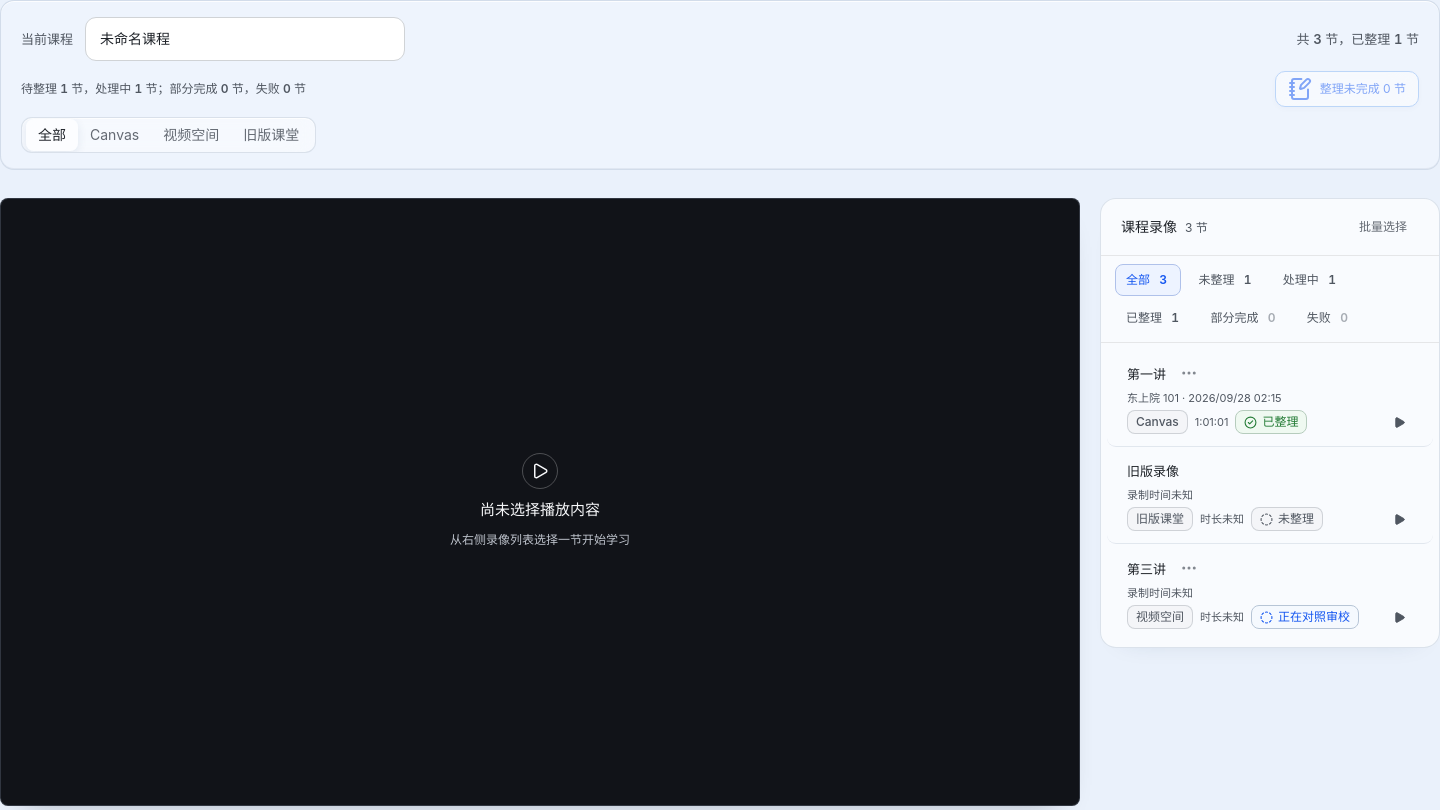
Scenario: VideosView › 状态计数和列表标题跟随当前视频来源
Press the mouse on the tab "视频空间" at (191,135), box [151,119,231,151]
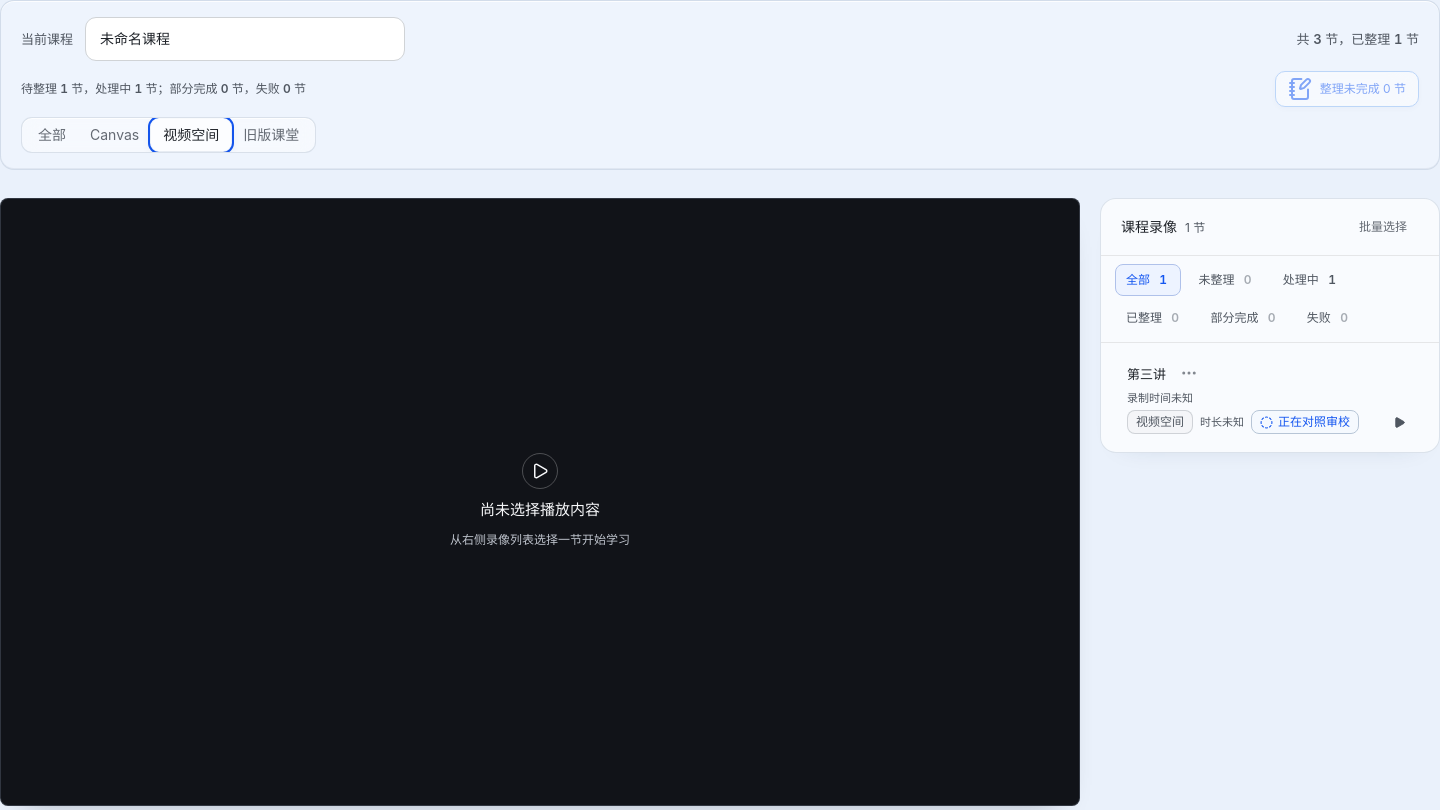
Expected: the text "1 节" is shown, [1185,216,1205,238]
Expected: the button "全部 1" is shown, [1115,264,1181,296]
Expected: the button "未整理 0" is shown, [1187,264,1266,296]
Press the mouse on the tab "Canvas" at (115,135), box [78,119,151,151]
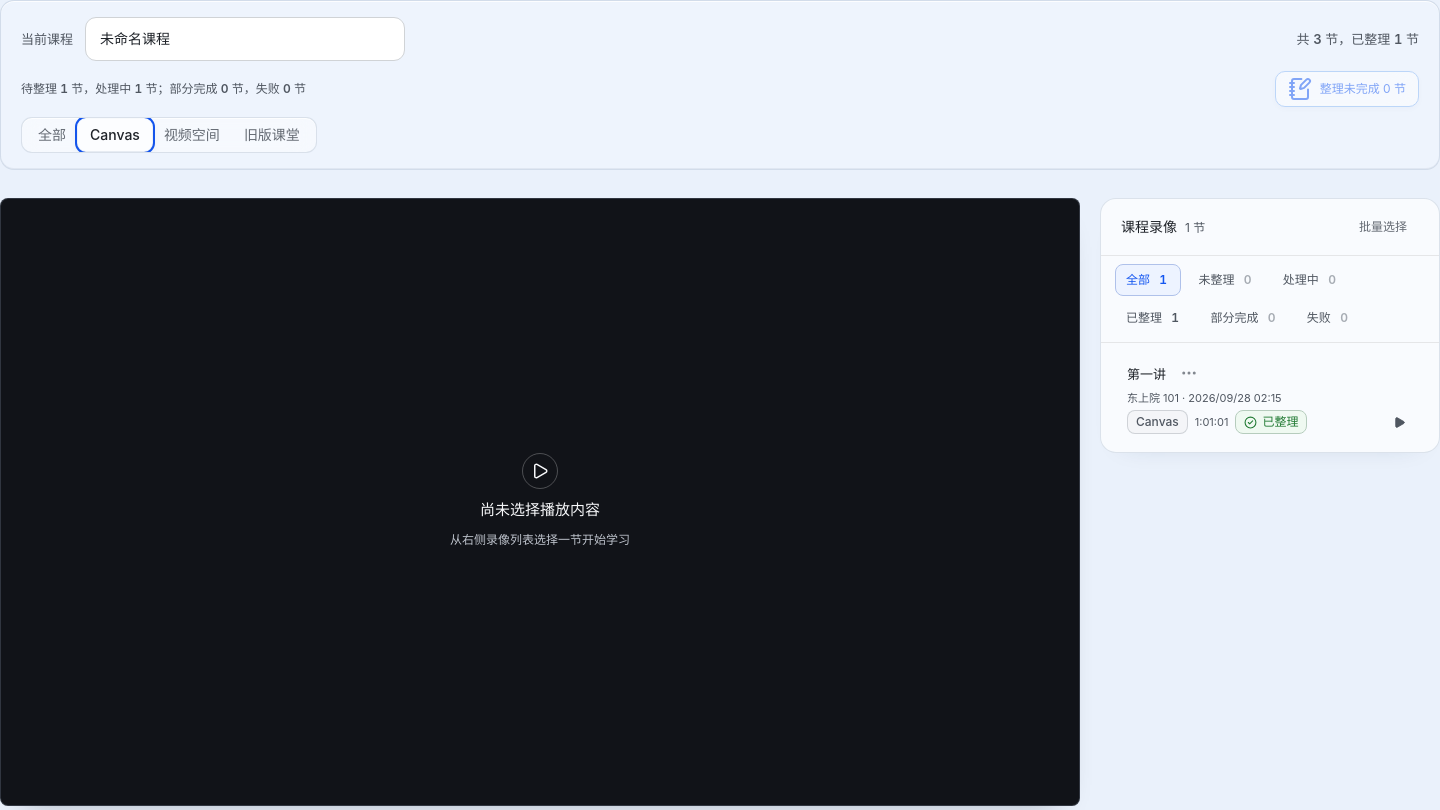
Expected: the text "1 节" is shown, [1185,216,1205,238]
Expected: the button "全部 1" is shown, [1115,264,1181,296]
Expected: the button "已整理 1" is shown, [1115,302,1193,334]
